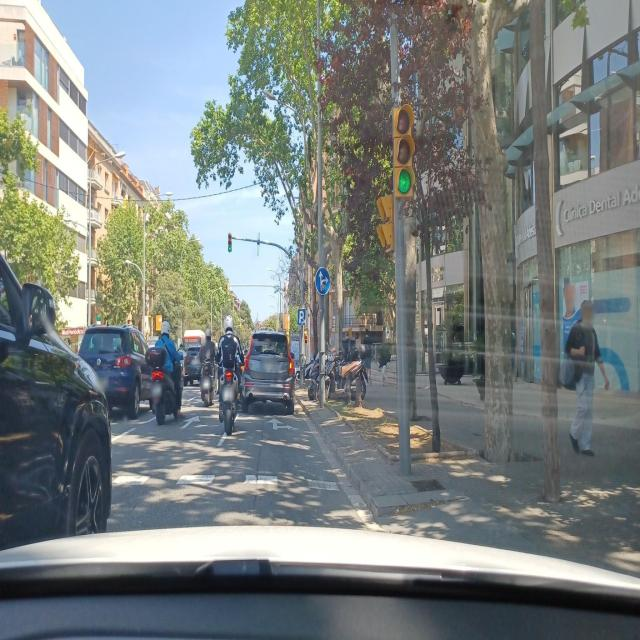bike: (312, 348, 367, 404), (146, 350, 184, 424), (215, 349, 242, 435)
car: (0, 190, 112, 552), (78, 323, 154, 419), (243, 329, 296, 415)
